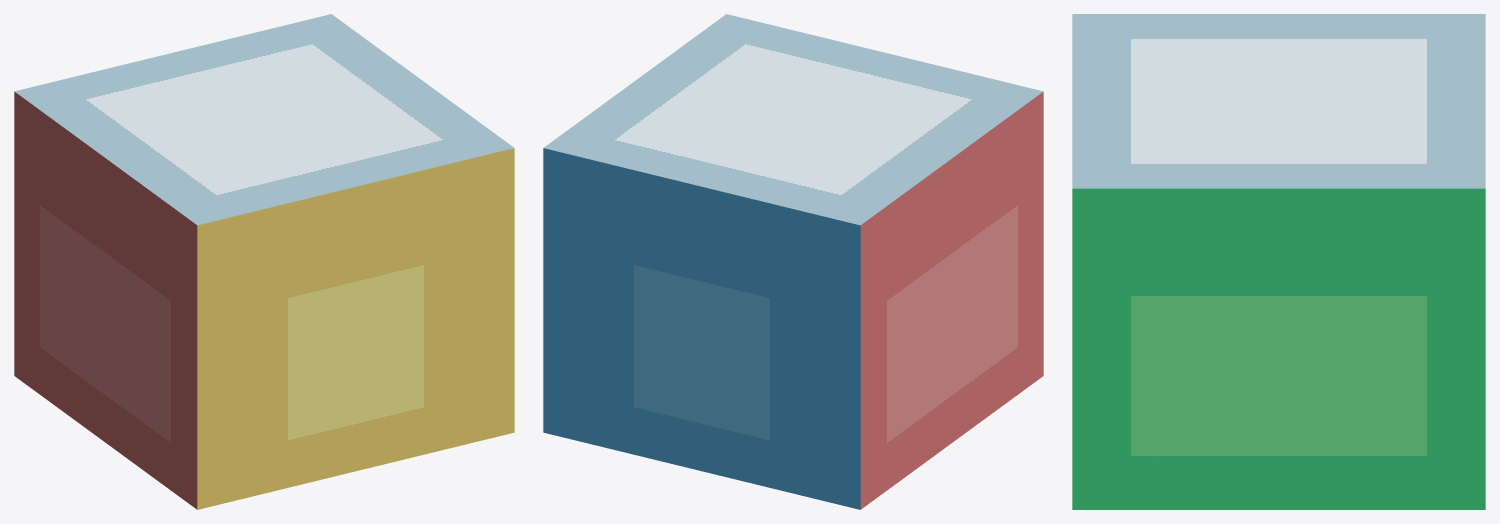
File: LootBox.fbx
3 views of the same model, side by side, from view 1: azimuth 30°, elevation 25°; view 2: azimuth 150°, elevation 25°; view 3: azimuth 270°, elevation 25° (orthographic). The views are drawn at different scales.
Parts seen in each view (by area): view 1: Lid, cube_2, cube, cube_3; view 2: Lid, cube_2, cube_1, cube_3; view 3: cube_3, Lid.
Boxes of the visible parts, bbox=[...] form: Lid: bbox=[14, 14, 514, 272]; cube_2: bbox=[14, 139, 242, 509]; cube: bbox=[242, 206, 469, 498]; cube_3: bbox=[469, 195, 514, 443]; Lid: bbox=[543, 14, 1043, 272]; cube_2: bbox=[815, 139, 1043, 509]; cube_1: bbox=[588, 206, 815, 498]; cube_3: bbox=[543, 195, 588, 443]; cube_3: bbox=[1072, 242, 1485, 509]; Lid: bbox=[1072, 14, 1485, 242].
Bounding box in the file's own units: 43.75 × 37.5 × 43.75.
Materials: 1 (1 with a texture image).
